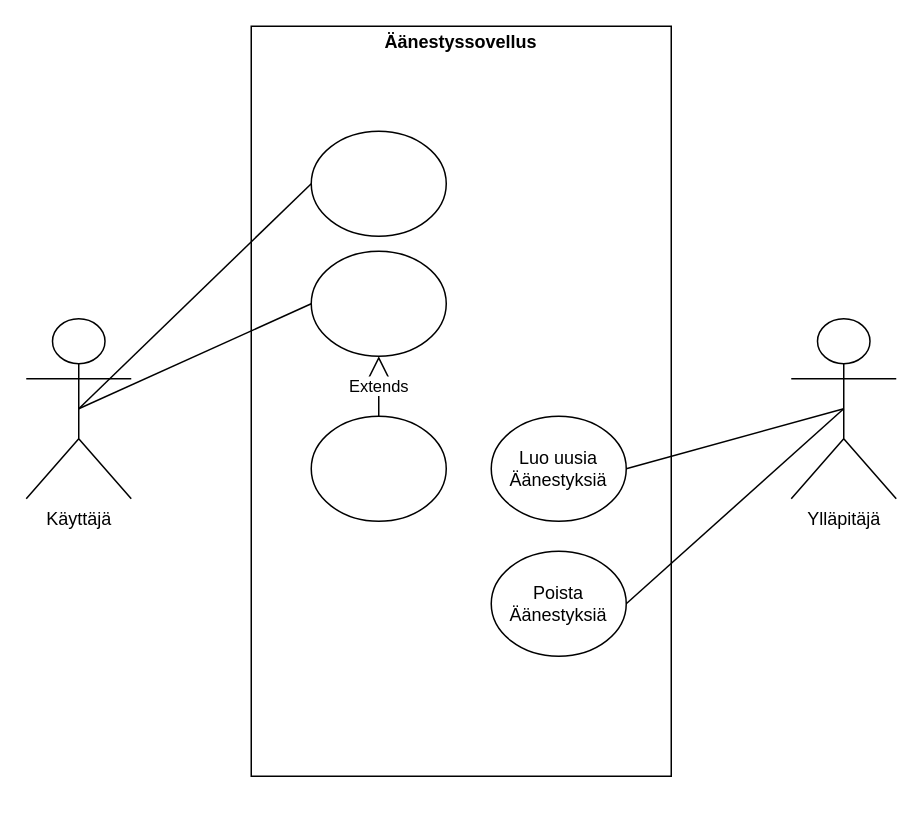
This 923x815 diagram has some shape labels left out. The shapes that lost their labels are listed below. From the top down, each one's centre as x and y in pixels, then its label:
point 378,183: Katsella Äänestyksiä
point 378,303: Valita Äänestyksen
point 378,468: Äänestää Äännestyksessä
